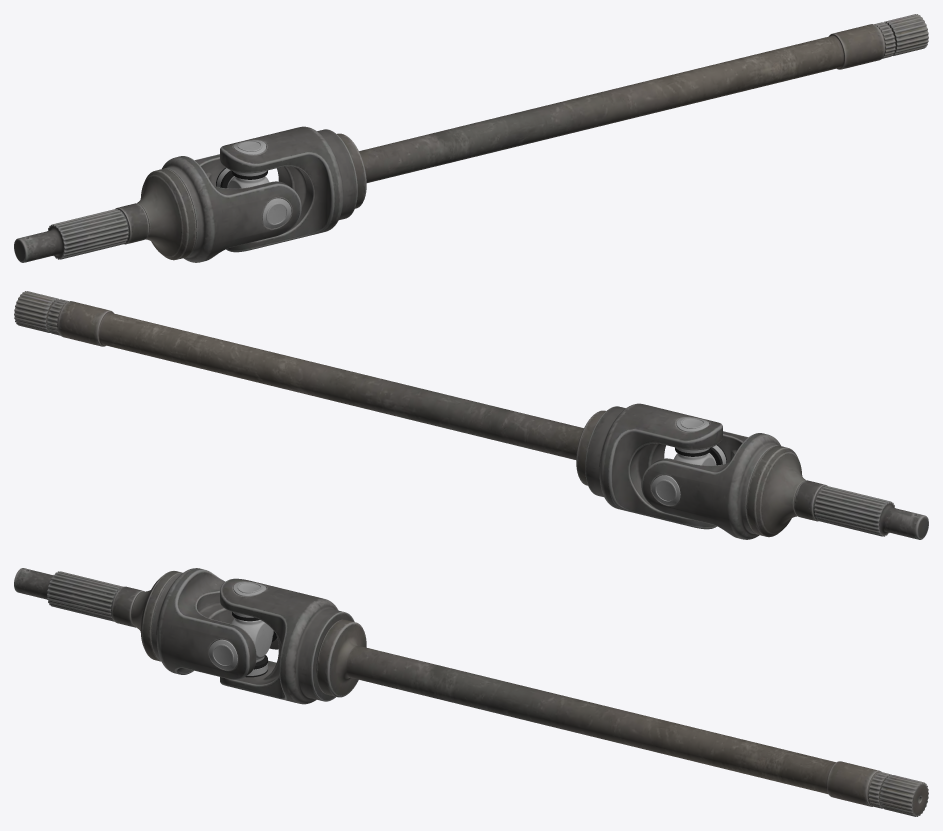
Rendered from drivetrain_axle_shaft_d01.glb.
The picture shows the model from 3 angles, top to bottom: view 1: azimuth 30°, elevation 25°; view 2: azimuth 150°, elevation 25°; view 3: azimuth 330°, elevation 25°; orthographic projection.
Visible parts, largest first — view 1: shaft_mesh_00; view 2: shaft_mesh_00; view 3: shaft_mesh_00.
Part boxes in pixels (<box>): shaft_mesh_00: <box>14,14,928,262</box>; shaft_mesh_00: <box>14,291,928,539</box>; shaft_mesh_00: <box>14,568,928,816</box>.
Size of the model in its own units: 0.6211 by 0.0654 by 0.0654.
3 materials, 2 textured.
